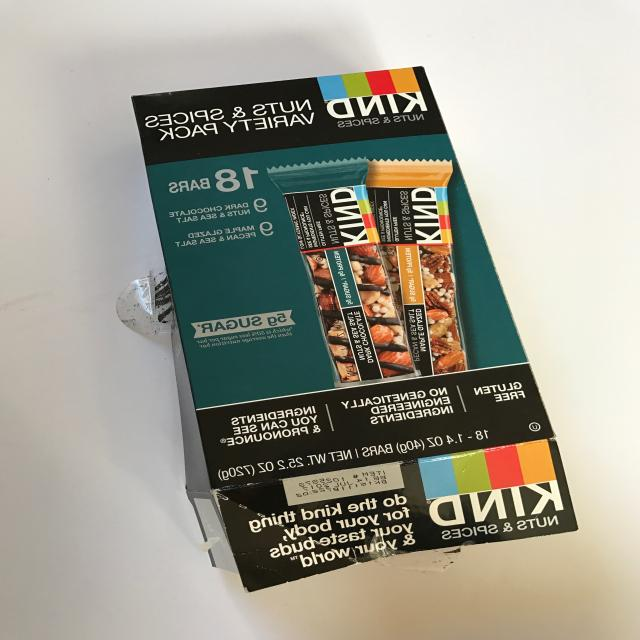paper: (90, 28, 596, 609)
